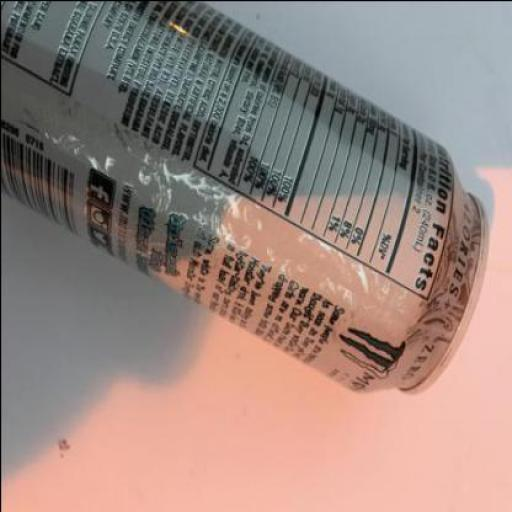metal: (1, 2, 489, 393)
